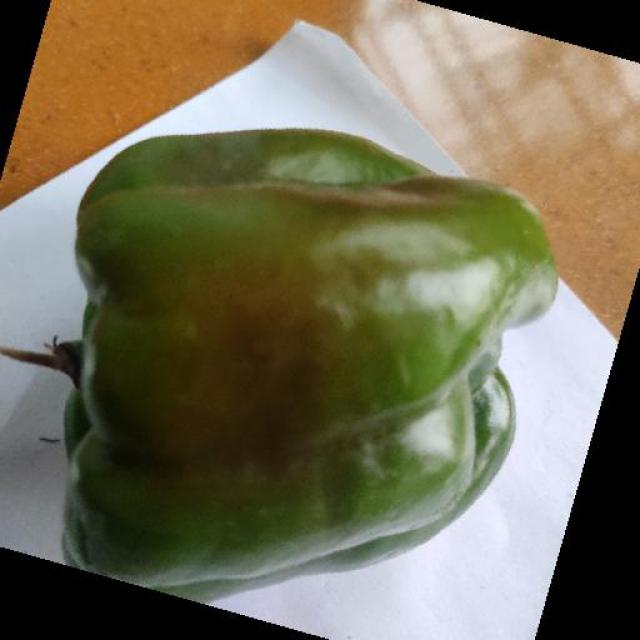Stale_Capsicum: (28, 132, 619, 537)
